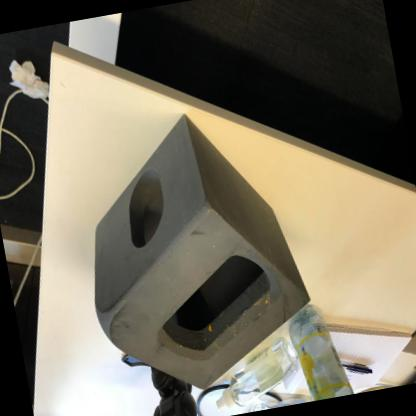CornerCasting: (61, 94, 331, 407)
